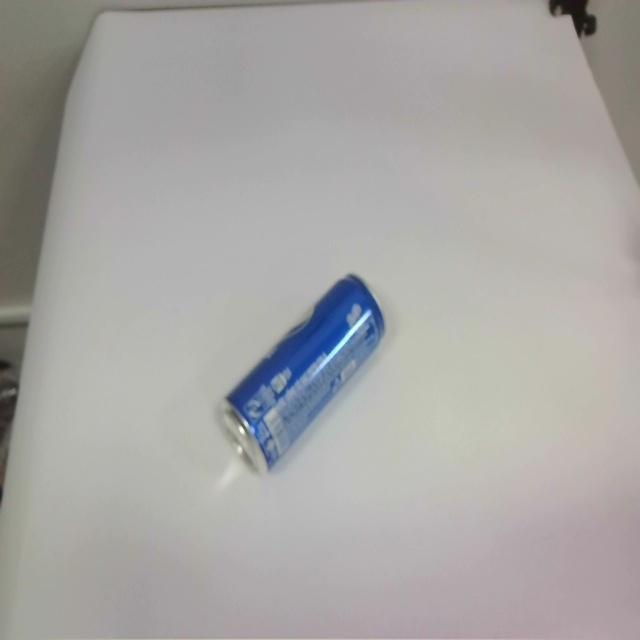debris: (224, 273, 386, 472)
